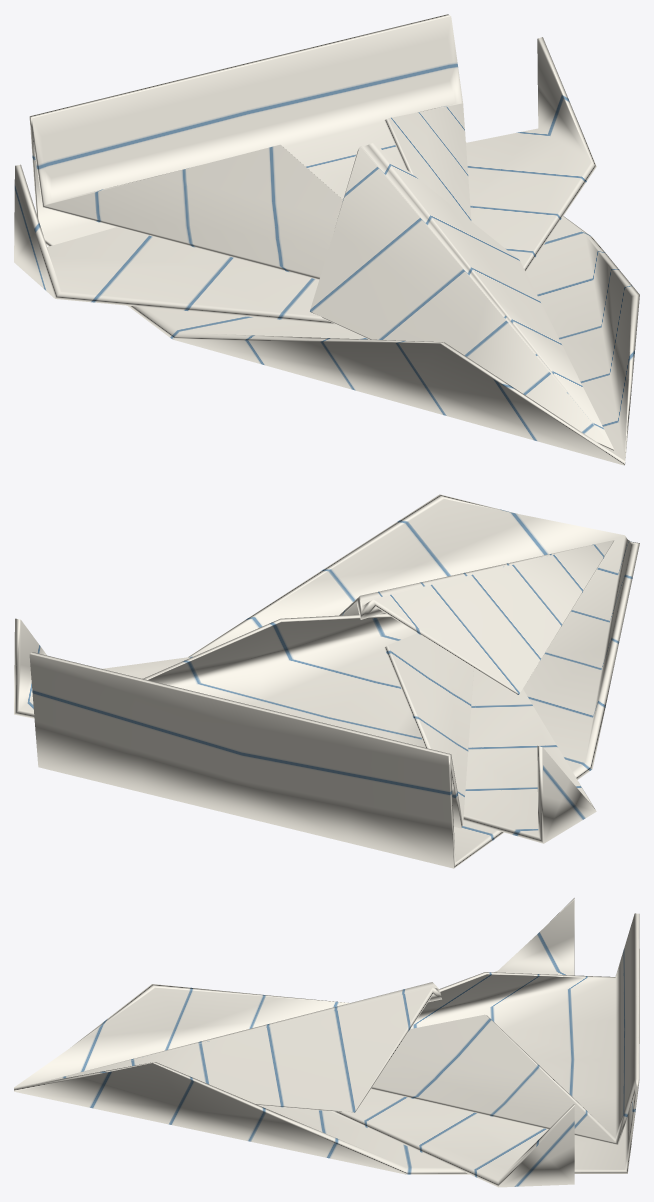
The model's file is NewPaperCar.fbx.
3 renders of one model, top to bottom at view 1: azimuth 30°, elevation 25°; view 2: azimuth 150°, elevation 25°; view 3: azimuth 270°, elevation 25°, orthographic. The views are drawn at different scales.
Parts seen in each view (by area): view 1: polySurface7; view 2: polySurface7; view 3: polySurface7.
Boxes of the visible parts, x1,y1,x2,y2 form: polySurface7: (14,14,639,465); polySurface7: (14,494,639,868); polySurface7: (14,898,639,1187).
Bounding box in the file's own units: 130 × 30.42 × 161.
